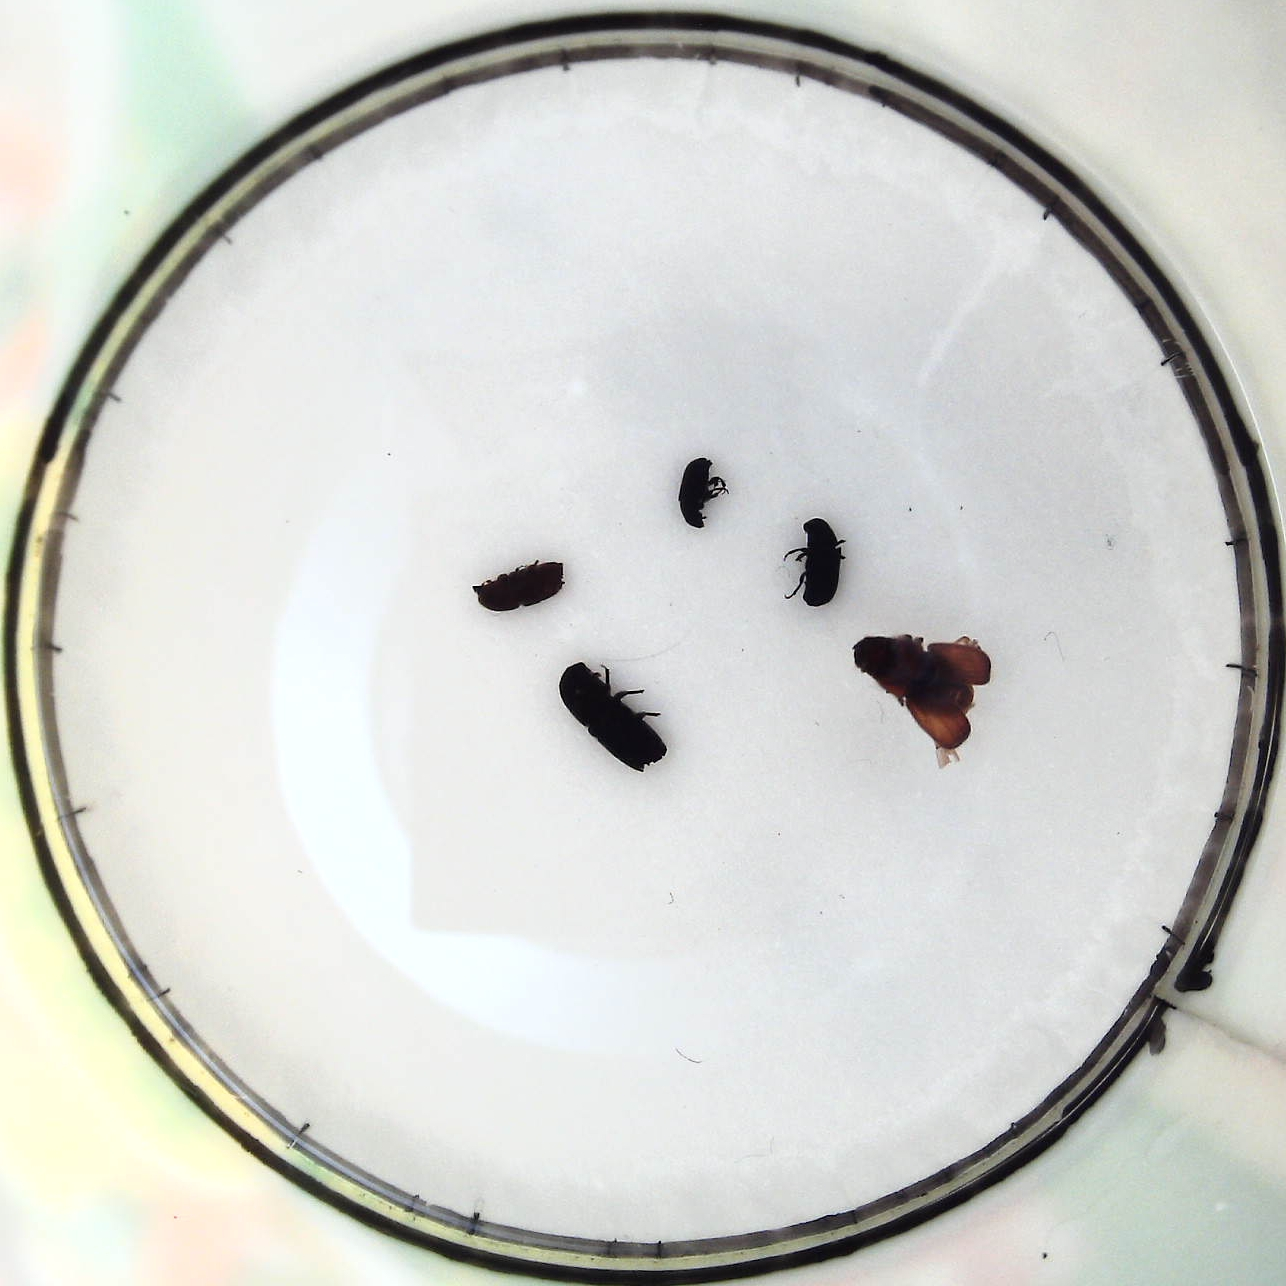Boerner: (558, 657, 672, 773)
Leconte: (855, 635, 990, 763)
Linnaeus: (470, 561, 566, 615)
armandi: (787, 518, 846, 611)
coleoptera: (675, 457, 730, 530)
